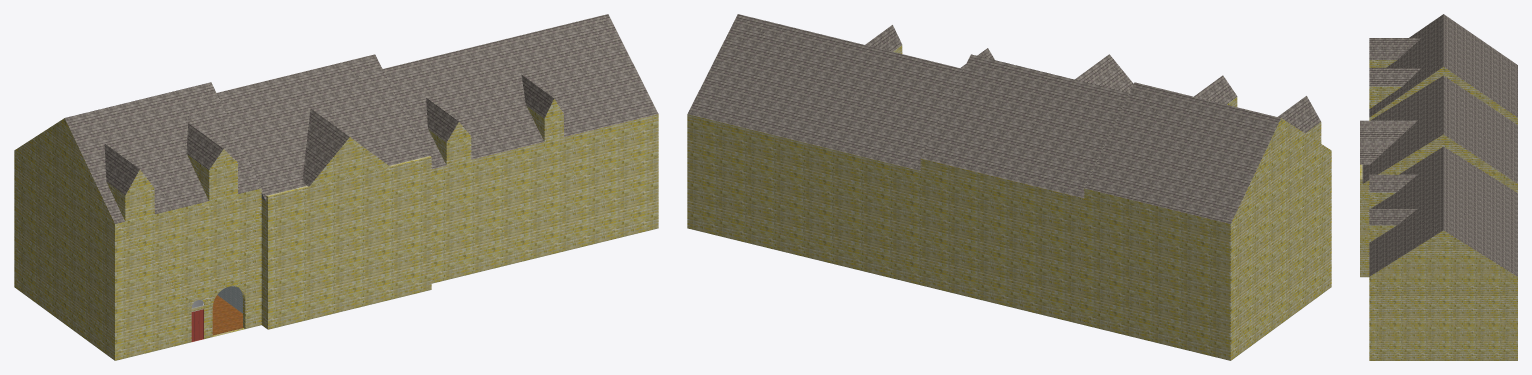
Rendered from tavern_simple.glb.
3 renders of one model, left to right at view 1: azimuth 30°, elevation 25°; view 2: azimuth 150°, elevation 25°; view 3: azimuth 270°, elevation 25°, orthographic. The views are drawn at different scales.
Parts seen in each view (by area): view 1: root; view 2: root; view 3: root.
Boxes of the visible parts, box(x1,y1,x2,y2) form: root: box(14, 14, 658, 360); root: box(687, 14, 1331, 360); root: box(1360, 14, 1517, 360).
Size of the model in its own units: 37.39 by 13.55 by 12.76.
Materials: 7 (6 with a texture image).
